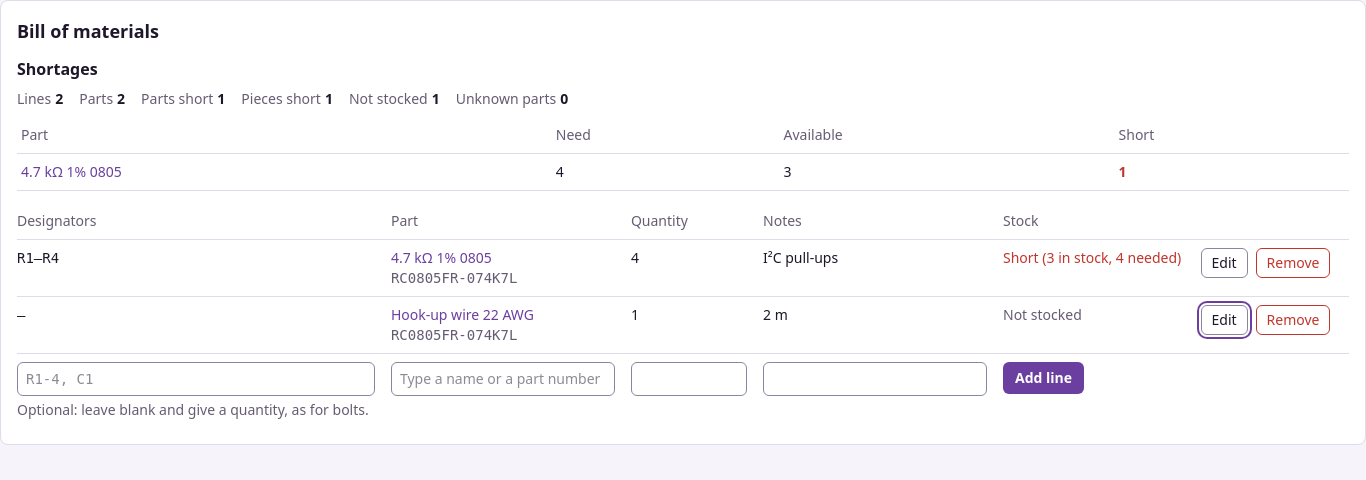
Scenario: BomLineRow › puts the line back as it was on Escape, focus back on Edit, sending nothing
Step 1. Press Enter
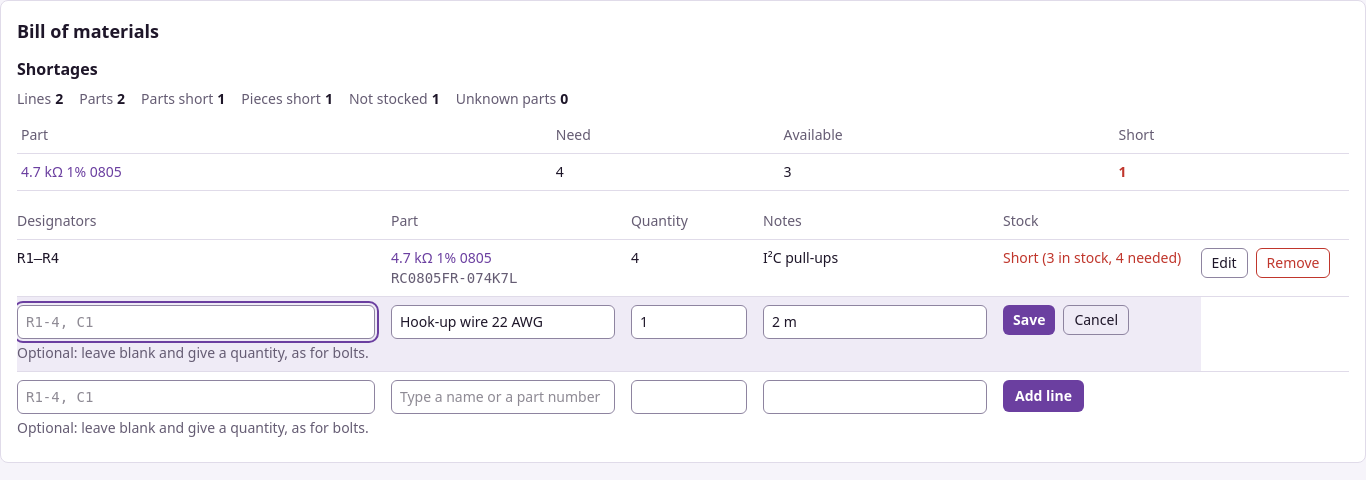
Step 2. Replace the text in the 1st field named "Notes" with "3 m" → x=875, y=322, box x1=763 y1=305 x2=987 y2=339
Then press Escape
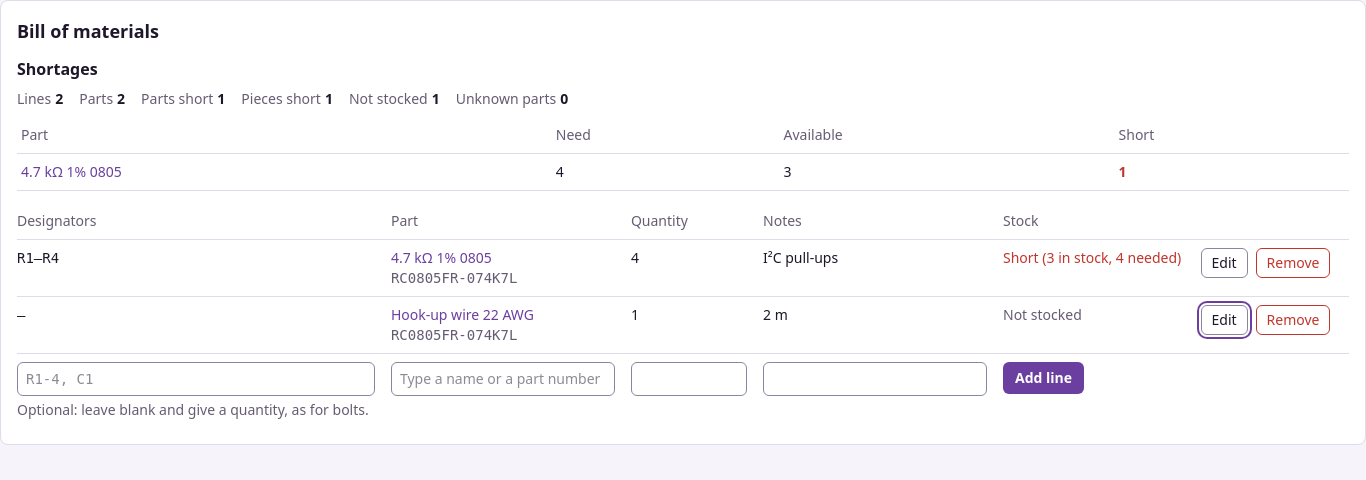
Result: the row "Hook-up wire" shows "2 m" at x1=763 y1=305 x2=788 y2=324
